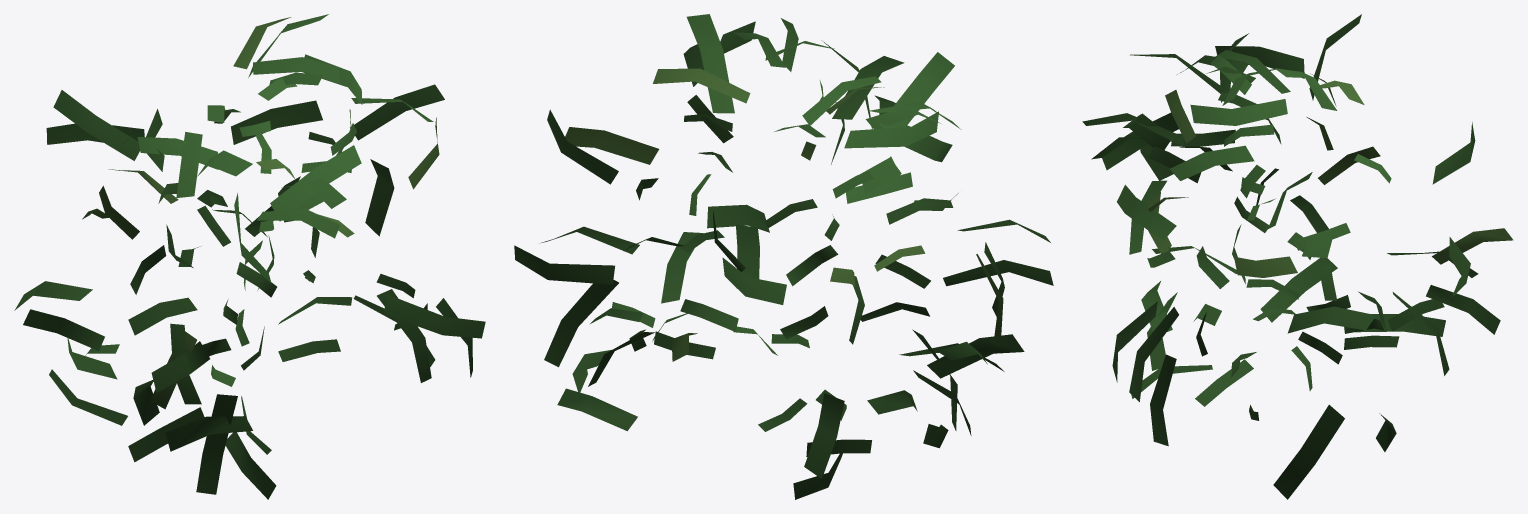
Rendered from arbusto_redondo_2_muito_longe.glb.
The picture shows the model from 3 angles, left to right: view 1: azimuth 30°, elevation 25°; view 2: azimuth 150°, elevation 25°; view 3: azimuth 270°, elevation 25°; orthographic projection. The views are drawn at different scales.
Parts seen in each view (by area): view 1: arbusto_redondo_2_muito_longe; view 2: arbusto_redondo_2_muito_longe; view 3: arbusto_redondo_2_muito_longe.
Boxes of the visible parts, bbox=[...] form: arbusto_redondo_2_muito_longe: bbox=[14, 14, 485, 499]; arbusto_redondo_2_muito_longe: bbox=[514, 14, 1053, 499]; arbusto_redondo_2_muito_longe: bbox=[1082, 14, 1513, 499].
Size of the model in its own units: 0.6714 by 0.6077 by 0.608.
